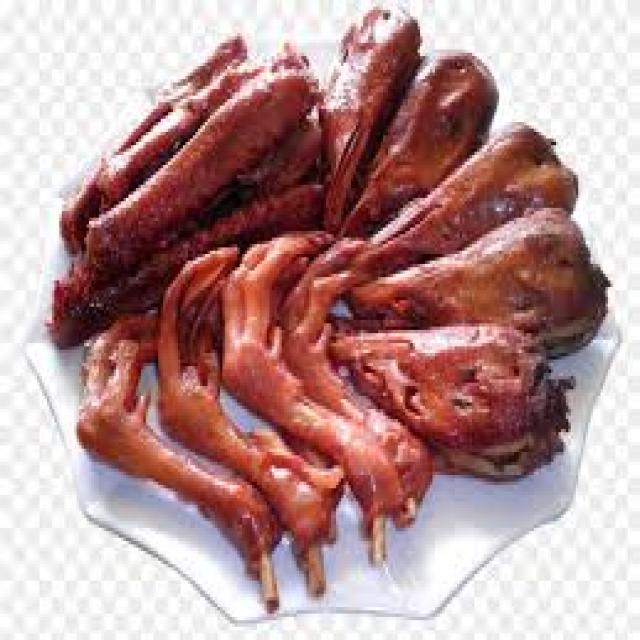organic waste: (71, 300, 282, 607), (153, 244, 339, 591), (222, 228, 403, 558), (79, 36, 319, 277), (47, 175, 324, 350), (282, 231, 435, 518), (319, 307, 568, 478), (333, 202, 608, 356), (57, 33, 247, 247), (338, 115, 576, 268), (91, 40, 306, 188), (341, 46, 497, 234), (316, 0, 420, 224), (198, 109, 328, 211)
